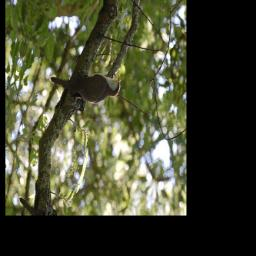Cuckoo: (48, 32, 124, 127)
